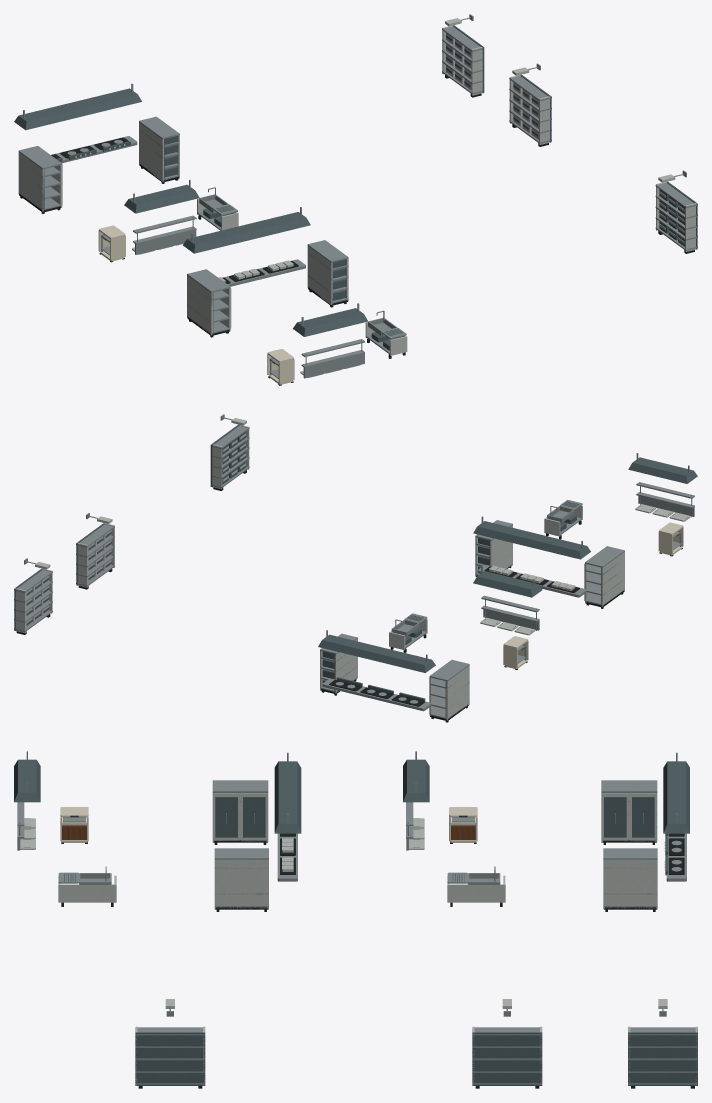
File: G8_ORCHARD_SERVICE_r001_unbatched.glb
The picture shows the model from 3 angles, top to bottom: view 1: azimuth 30°, elevation 25°; view 2: azimuth 150°, elevation 25°; view 3: azimuth 270°, elevation 25°; orthographic projection. The views are drawn at different scales.
Parts seen in each view (by area): view 1: G8O_SouthFinish_Hood_Shroud, G8O_NorthFinish_Hood_Shroud, G8O_NorthPrep_TaskHood_Shroud, G8O_SouthPrep_TaskHood_Shroud, G8O_NorthChill_Side-1, G8O_SouthChill_Side-1, G8O_SouthDry_Side-1, G8O_NorthDry_Side-1, G8O_SouthPrep_BackUpstand, G8O_NorthPrep_BackUpstand; view 2: G8O_SouthFinish_Hood_Shroud, G8O_NorthFinish_Hood_Shroud, G8O_NorthPrep_TaskHood_Shroud, G8O_SouthPrep_TaskHood_Shroud, G8O_NorthChill_Side-1, G8O_SouthChill_Side-1, G8O_NorthDry_Side-1, G8O_SouthDry_Side-1, G8O_NorthFinish_WeightedDeck; view 3: G8O_DryDelivery_Rear, G8O_UsedReturn_Rear, G8O_CleanDelivery_Rear, G8O_NorthDry_Side1, G8O_SouthDry_Side1, G8O_SouthFinish_Hood_Shroud, G8O_NorthFinish_Hood_Shroud, G8O_SouthPrep_TaskHood_Shroud, G8O_NorthPrep_TaskHood_Shroud, G8O_NorthWash_RearPanel, G8O_SouthWash_RearPanel, G8O_NorthChill_DoorReveal-1 (+10 smaller).
Part boxes in pixels (left/top/right/bottom): G8O_SouthFinish_Hood_Shroud: left=183, top=212, right=310, bottom=253; G8O_NorthFinish_Hood_Shroud: left=14, top=88, right=142, bottom=130; G8O_NorthPrep_TaskHood_Shroud: left=124, top=184, right=199, bottom=213; G8O_SouthPrep_TaskHood_Shroud: left=293, top=308, right=368, bottom=336; G8O_NorthChill_Side-1: left=18, top=152, right=44, bottom=211; G8O_SouthChill_Side-1: left=187, top=275, right=212, bottom=335; G8O_SouthDry_Side-1: left=307, top=246, right=332, bottom=304; G8O_NorthDry_Side-1: left=139, top=122, right=163, bottom=181; G8O_SouthPrep_BackUpstand: left=303, top=353, right=364, bottom=378; G8O_NorthPrep_BackUpstand: left=135, top=230, right=196, bottom=254; G8O_SouthFinish_Hood_Shroud: left=473, top=521, right=590, bottom=559; G8O_NorthFinish_Hood_Shroud: left=318, top=634, right=435, bottom=672; G8O_NorthPrep_TaskHood_Shroud: left=473, top=571, right=542, bottom=597; G8O_SouthPrep_TaskHood_Shroud: left=628, top=457, right=697, bottom=483; G8O_NorthChill_Side-1: left=446, top=665, right=469, bottom=720; G8O_SouthChill_Side-1: left=601, top=552, right=624, bottom=606; G8O_NorthDry_Side-1: left=334, top=639, right=357, bottom=693; G8O_SouthDry_Side-1: left=490, top=525, right=512, bottom=568; G8O_NorthFinish_WeightedDeck: left=322, top=678, right=431, bottom=711; G8O_DryDelivery_Rear: left=472, top=1032, right=542, bottom=1085; G8O_UsedReturn_Rear: left=135, top=1032, right=205, bottom=1085; G8O_CleanDelivery_Rear: left=628, top=1032, right=697, bottom=1085; G8O_NorthDry_Side1: left=603, top=859, right=657, bottom=908; G8O_SouthDry_Side1: left=214, top=859, right=268, bottom=908; G8O_SouthFinish_Hood_Shroud: left=274, top=761, right=301, bottom=833; G8O_NorthFinish_Hood_Shroud: left=663, top=761, right=689, bottom=833; G8O_SouthPrep_TaskHood_Shroud: left=14, top=759, right=40, bottom=802; G8O_NorthPrep_TaskHood_Shroud: left=403, top=759, right=429, bottom=802; G8O_NorthWash_RearPanel: left=447, top=884, right=505, bottom=902; G8O_SouthWash_RearPanel: left=58, top=884, right=116, bottom=902; G8O_NorthChill_DoorReveal-1: left=632, top=797, right=654, bottom=837.
Size of the model in its own units: 23.42 by 3.81 by 26.39.
13 materials, 12 textured.
